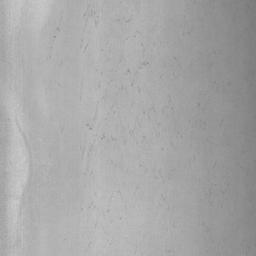Silk spot: (119, 43, 152, 93), (86, 105, 115, 130), (83, 5, 99, 25)
